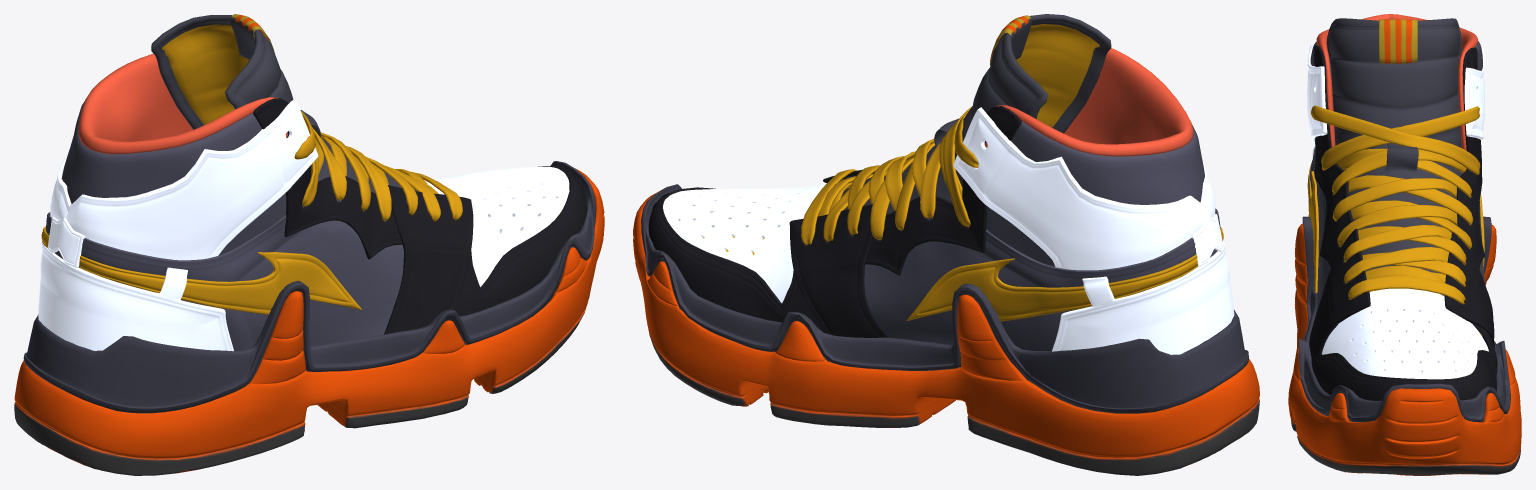
File: Shoe3.glb
3 renders of one model, left to right at view 1: azimuth 30°, elevation 25°; view 2: azimuth 150°, elevation 25°; view 3: azimuth 270°, elevation 25°, orthographic. The views are drawn at different scales.
Visible parts, largest first — view 1: Mesh_3_blinn1SG.001_0, Mesh_8_blinn3SG_0, Mesh_4_blinn1SG.002_0, Mesh_6_blinn2SG.001_0, Mesh_5_blinn2SG_0, Mesh_1_blinn6SG_0, Mesh_7_blinn2SG_0, Mesh_0_bladeblinn31SG_0, Mesh_10_blinn5SG_0, Mesh_2_blinn7SG_0, Mesh_9_blinn4SG_0; view 2: Mesh_3_blinn1SG.001_0, Mesh_8_blinn3SG_0, Mesh_4_blinn1SG.002_0, Mesh_6_blinn2SG.001_0, Mesh_5_blinn2SG_0, Mesh_1_blinn6SG_0, Mesh_2_blinn7SG_0, Mesh_7_blinn2SG_0, Mesh_10_blinn5SG_0, Mesh_0_bladeblinn31SG_0, Mesh_9_blinn4SG_0; view 3: Mesh_2_blinn7SG_0, Mesh_3_blinn1SG.001_0, Mesh_10_blinn5SG_0, Mesh_6_blinn2SG.001_0, Mesh_8_blinn3SG_0, Mesh_4_blinn1SG.002_0, Mesh_1_blinn6SG_0, Mesh_5_blinn2SG_0, Mesh_0_bladeblinn31SG_0, Mesh_7_blinn2SG_0.
Part boxes in pixels (x1,y1,x2,y2): Mesh_3_blinn1SG.001_0: (14,168,604,475); Mesh_8_blinn3SG_0: (38,99,569,351); Mesh_4_blinn1SG.002_0: (23,161,596,413); Mesh_6_blinn2SG.001_0: (253,98,587,334); Mesh_5_blinn2SG_0: (46,212,403,350); Mesh_1_blinn6SG_0: (78,53,287,154); Mesh_7_blinn2SG_0: (61,101,303,255); Mesh_0_bladeblinn31SG_0: (41,226,361,314); Mesh_10_blinn5SG_0: (151,14,416,221); Mesh_2_blinn7SG_0: (294,111,462,221); Mesh_9_blinn4SG_0: (162,24,538,230); Mesh_3_blinn1SG.001_0: (633,186,1259,475); Mesh_8_blinn3SG_0: (663,107,1234,354); Mesh_4_blinn1SG.002_0: (641,184,1248,413); Mesh_6_blinn2SG.001_0: (648,106,1021,337); Mesh_5_blinn2SG_0: (864,208,1220,350); Mesh_1_blinn6SG_0: (967,48,1193,227); Mesh_2_blinn7SG_0: (801,107,978,245); Mesh_7_blinn2SG_0: (986,121,1204,266); Mesh_10_blinn5SG_0: (841,14,1111,240); Mesh_0_bladeblinn31SG_0: (906,227,1223,321); Mesh_9_blinn4SG_0: (703,24,1099,254); Mesh_2_blinn7SG_0: (1310,105,1480,304); Mesh_3_blinn1SG.001_0: (1288,224,1521,475); Mesh_10_blinn5SG_0: (1326,18,1462,295); Mesh_6_blinn2SG.001_0: (1309,45,1497,400); Mesh_8_blinn3SG_0: (1307,45,1488,379); Mesh_4_blinn1SG.002_0: (1298,215,1510,422); Mesh_1_blinn6SG_0: (1316,14,1478,150); Mesh_5_blinn2SG_0: (1309,147,1484,313); Mesh_0_bladeblinn31SG_0: (1307,163,1484,292); Mesh_7_blinn2SG_0: (1310,41,1482,147).
Bounding box in the file's own units: 3093 × 1958 × 1201.
Materials: 10 (2 with a texture image).
